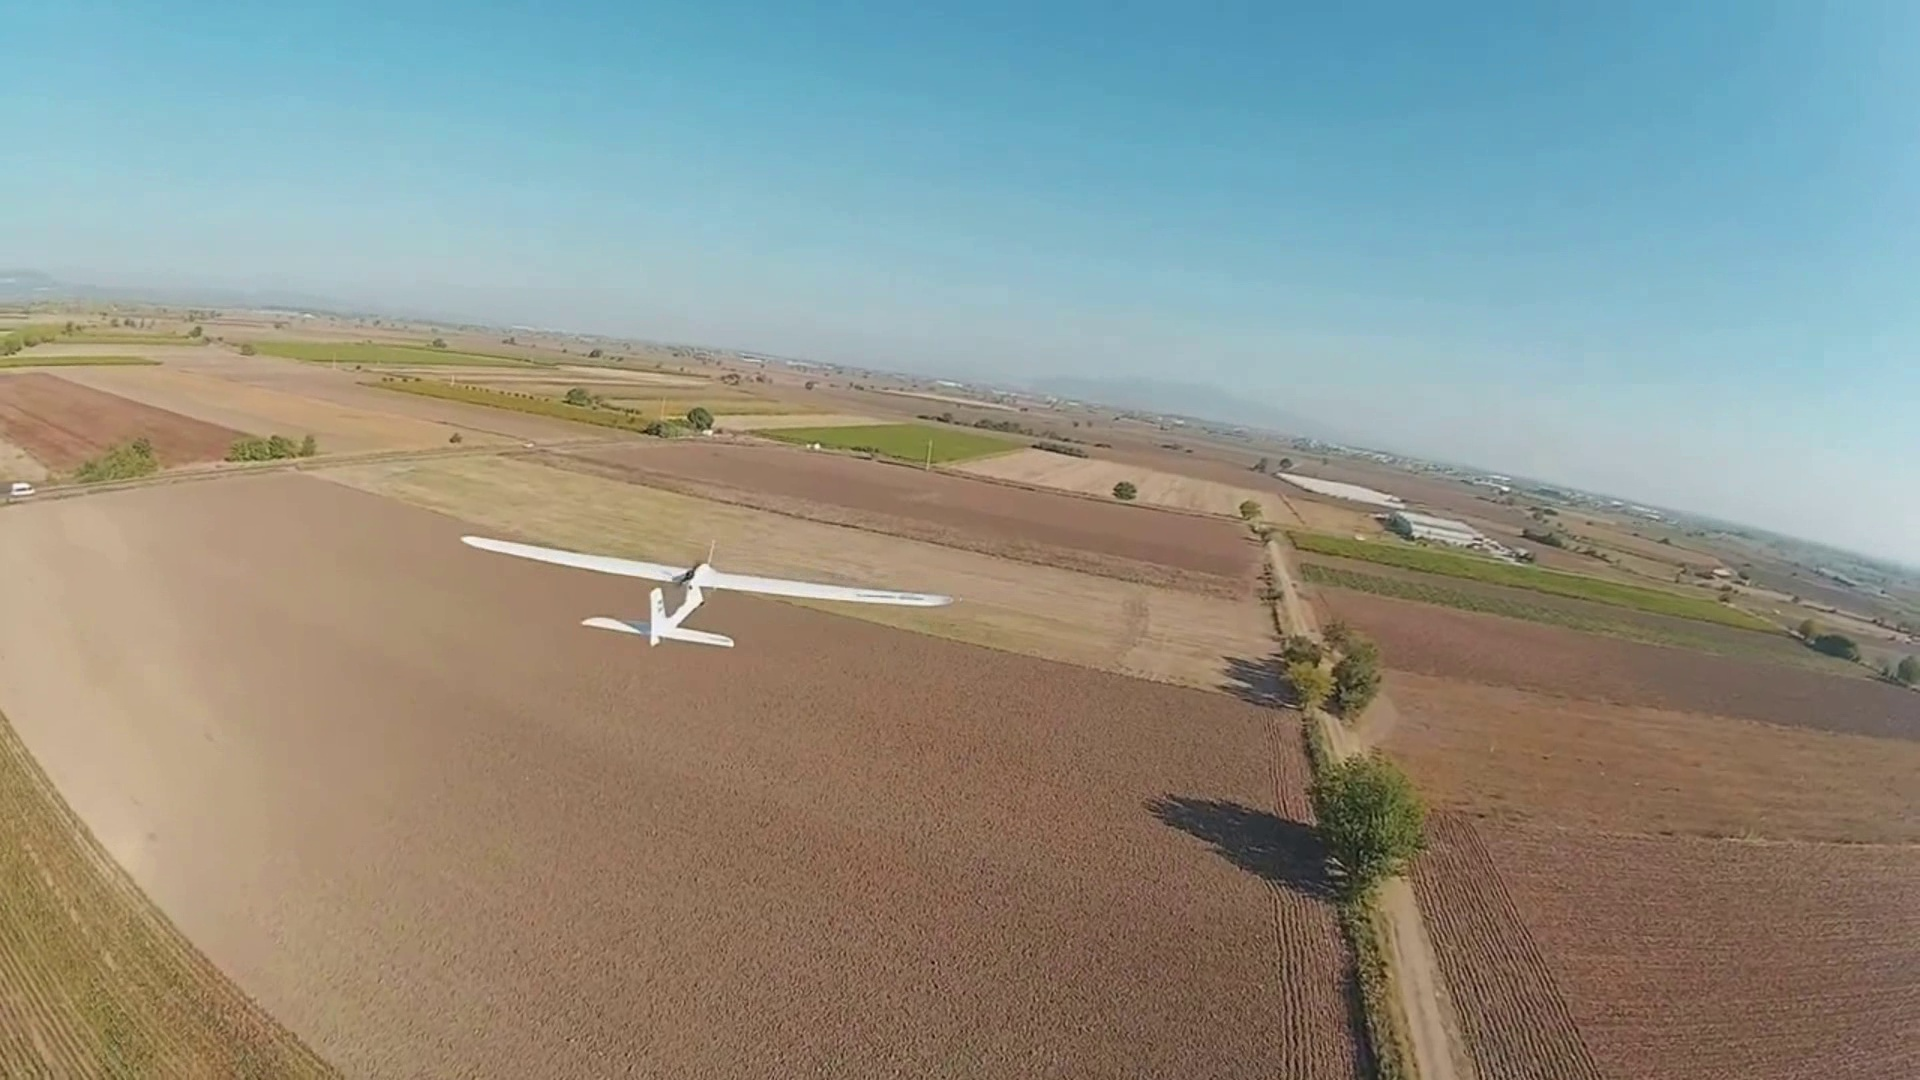airplane: (580, 551, 732, 647)
